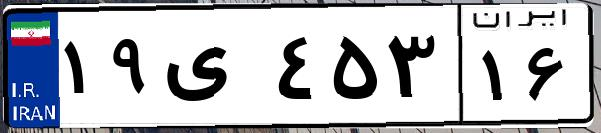1: (57, 26, 110, 100), (475, 38, 525, 113)
3: (385, 28, 445, 110)
4: (270, 28, 330, 110)
5: (330, 28, 385, 110)
6: (525, 38, 570, 115)
9: (110, 28, 158, 98)
ی: (158, 20, 270, 120)
